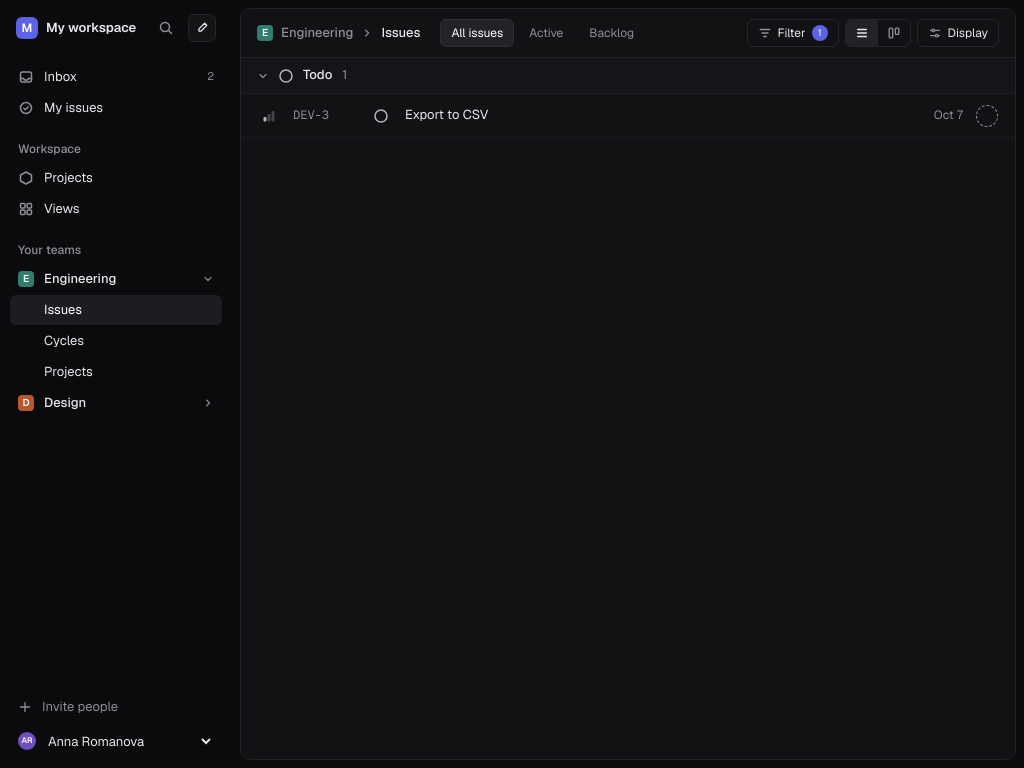
it: views › lands on the saved view showing its issues
expect the link "Export to CSV" is shown: met, box top-left (405, 106), bottom-right (488, 123)
Click the button "Filter 1". click: (793, 33)
box: top-left (747, 19), bottom-right (838, 47)
(page scrolled)
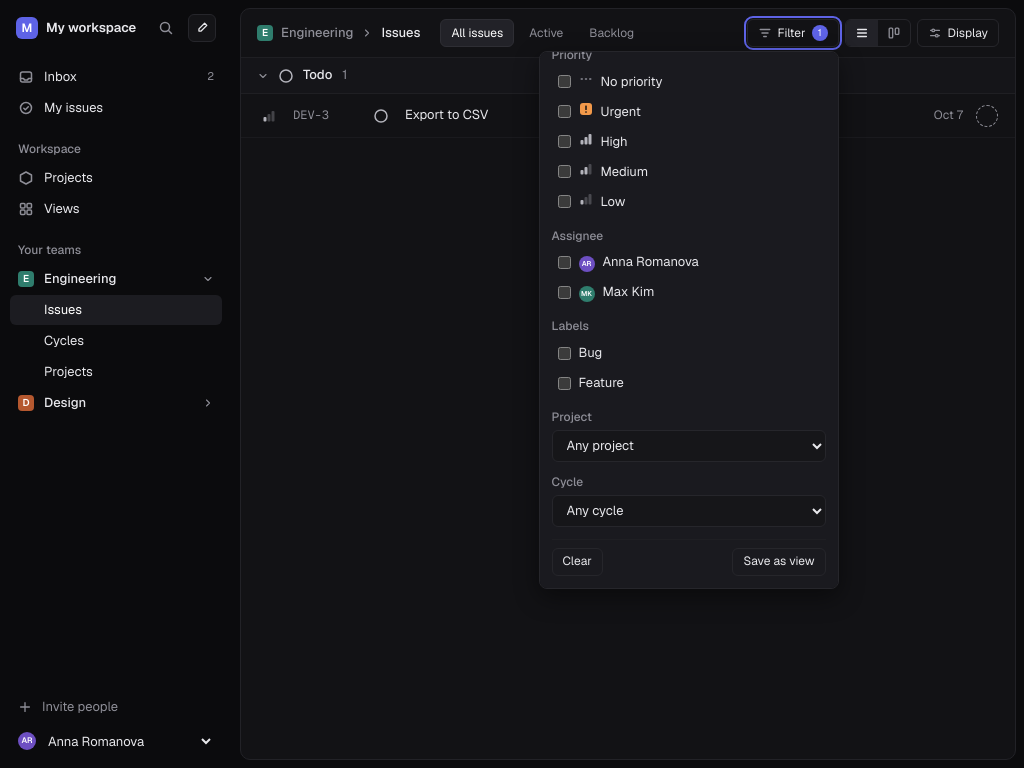
Click the button "Save as view". click: (779, 562)
box: top-left (732, 548), bottom-right (826, 576)
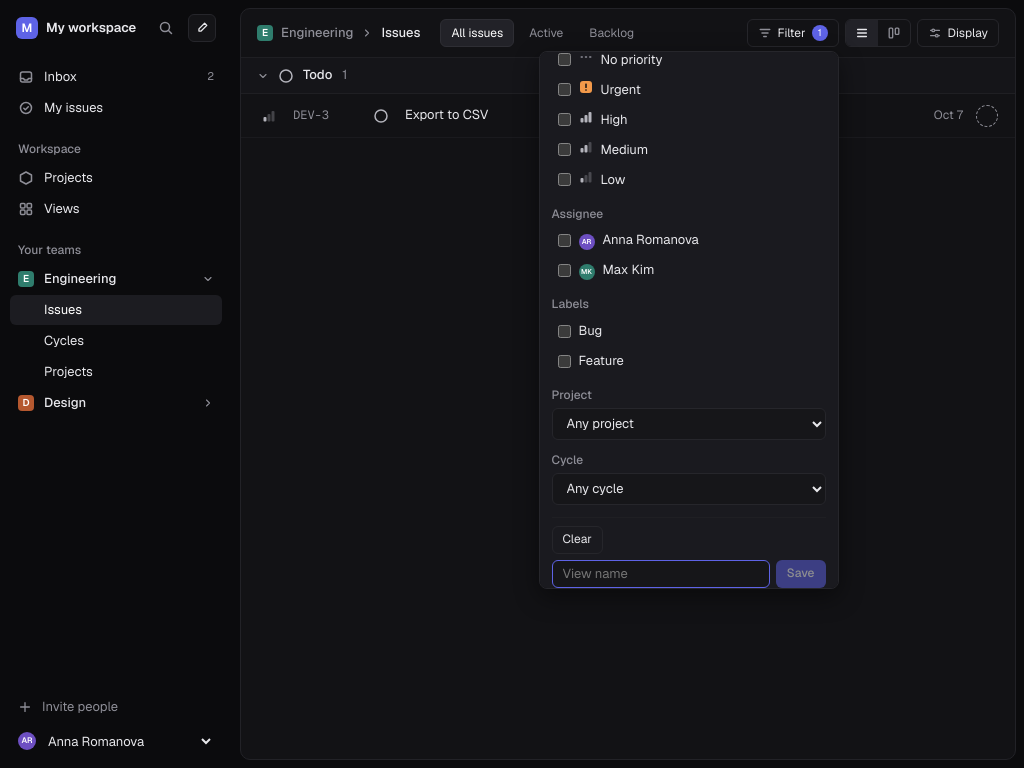
Type "Todo only" into the field labelled "View name". click: (661, 574)
box: top-left (552, 560), bottom-right (770, 588)
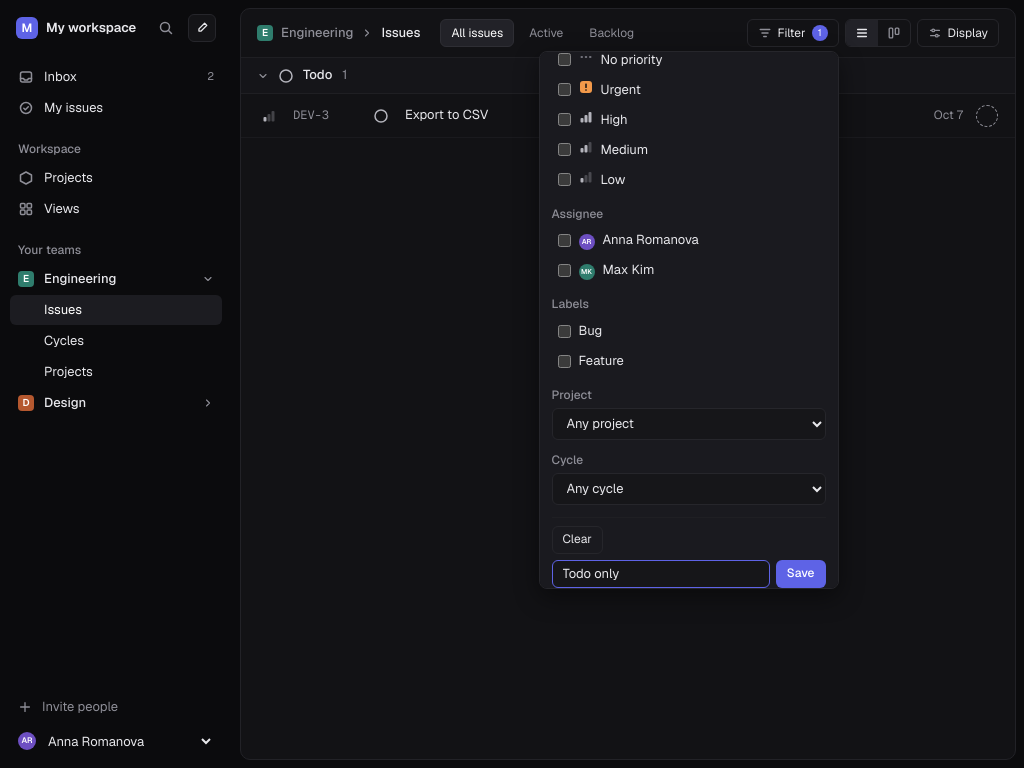
Click the button "Save". click: (801, 574)
box: top-left (776, 560), bottom-right (826, 588)
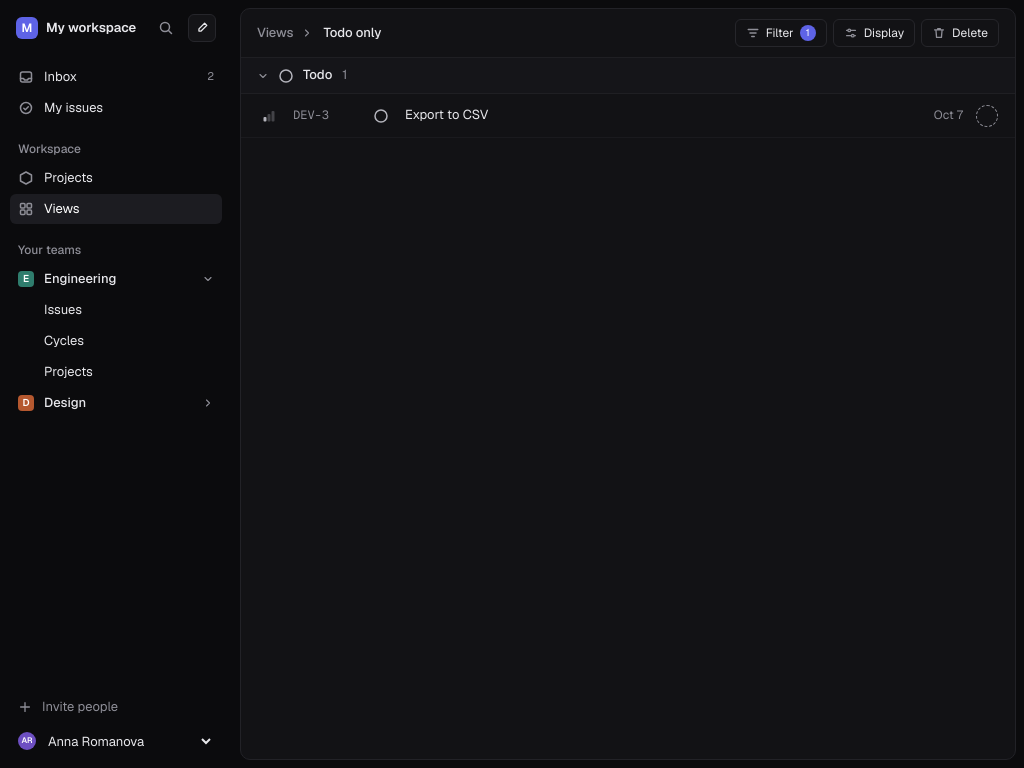
expect the link "Export to CSV" is shown: met, box top-left (405, 106), bottom-right (488, 123)
expect the field named "View name" holds "Todo only": met, box top-left (321, 23), bottom-right (422, 43)
